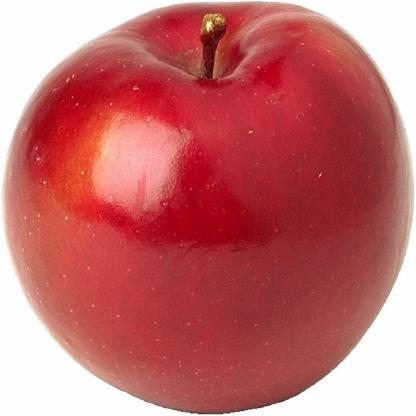apple: (0, 0, 412, 411)
